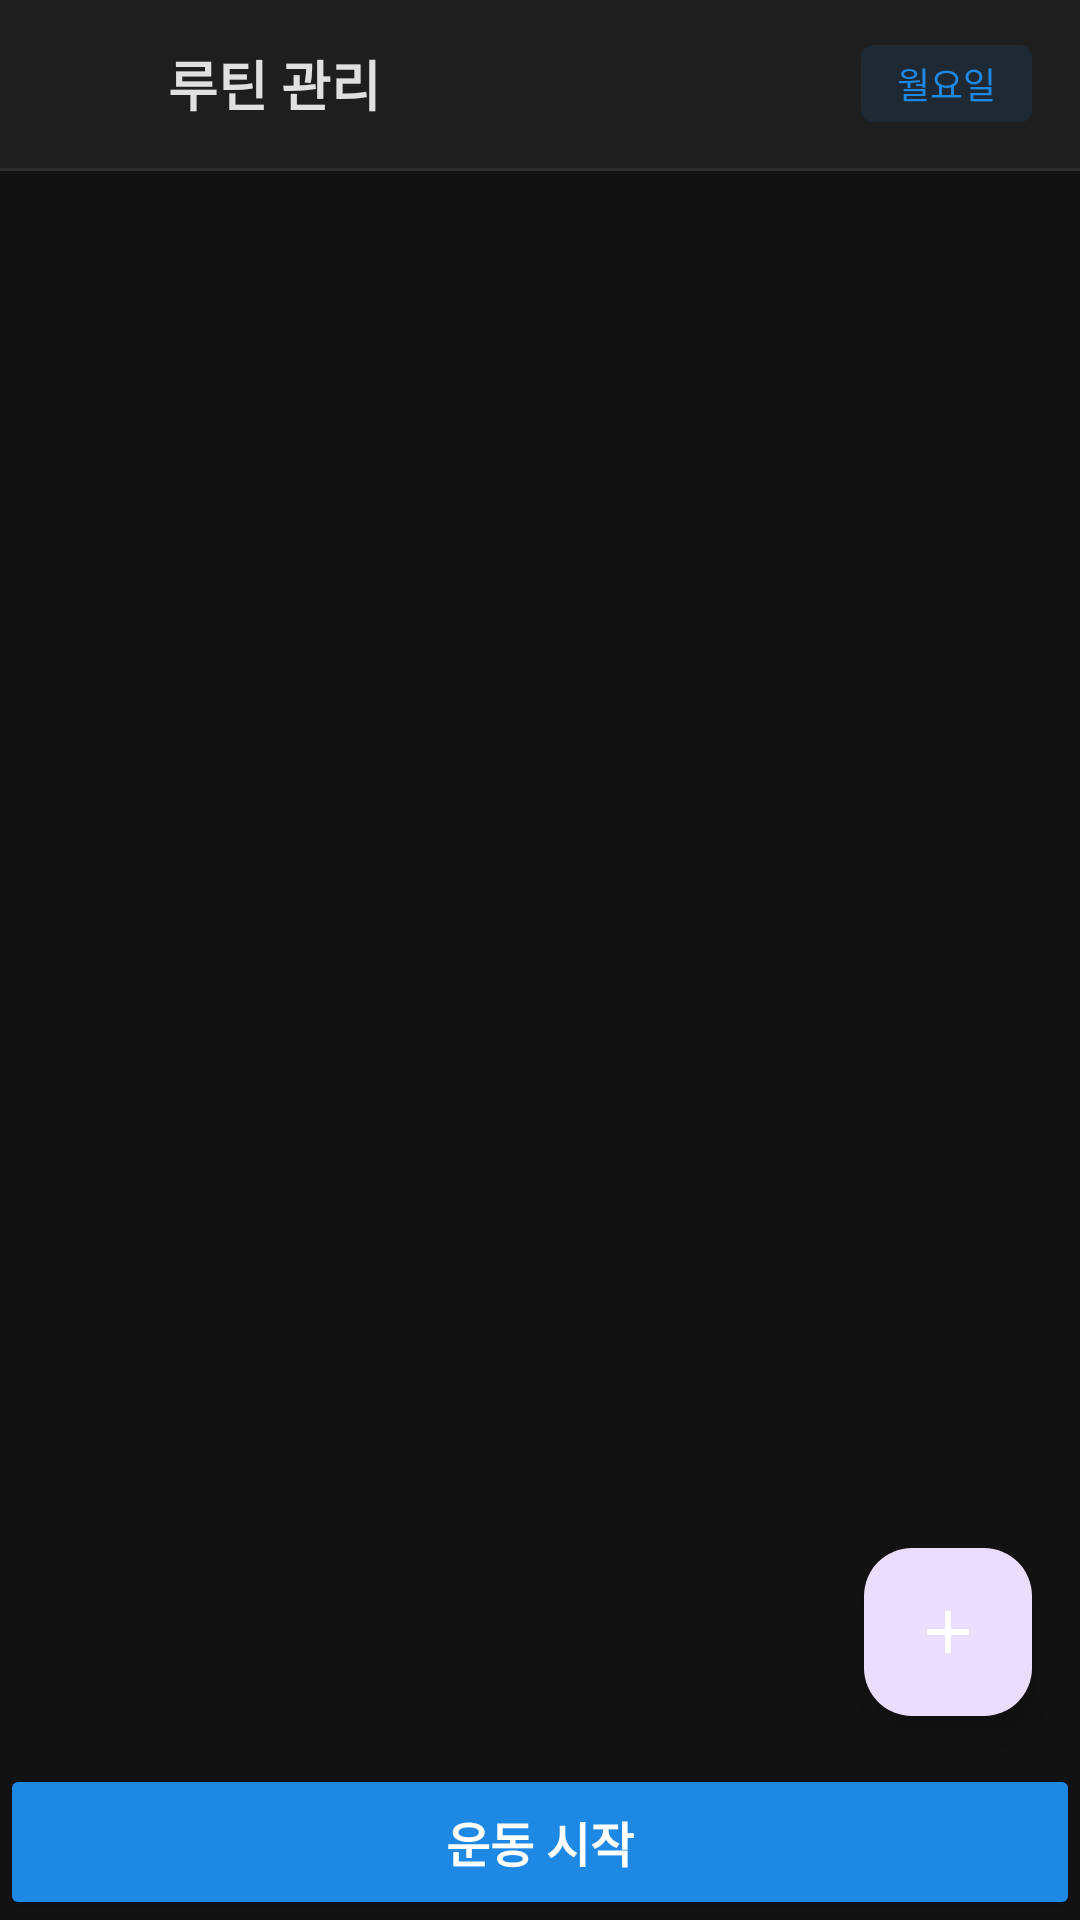

Point at icon controls on the screen. Image size 1080w x 1920h, points as (x,y).
add: (948,1632)
